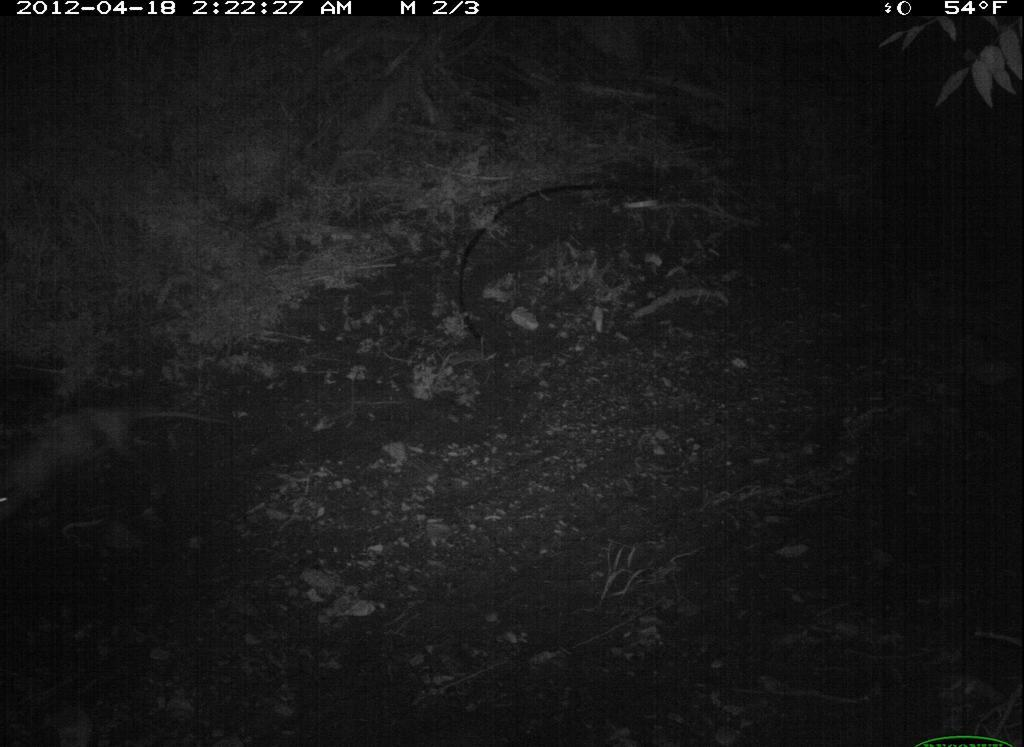opossum: (4, 387, 249, 533)
